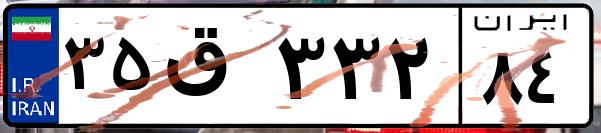2: (385, 28, 445, 110)
3: (270, 28, 330, 110), (330, 28, 385, 110), (57, 26, 110, 100)
4: (525, 38, 570, 115)
5: (110, 28, 158, 98)
8: (475, 38, 525, 113)
ق: (158, 20, 270, 120)
